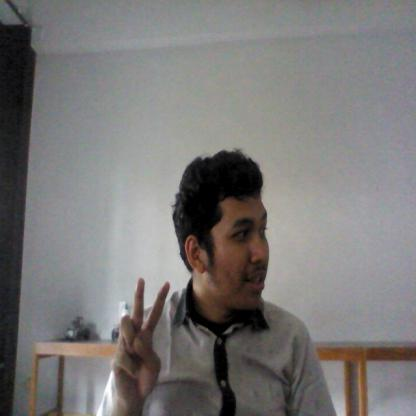V: (108, 276, 171, 409)
